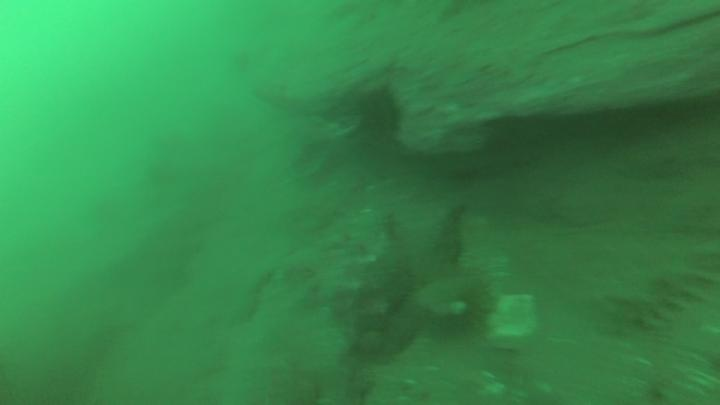echinus: (360, 84, 403, 147)
holothurian: (595, 241, 720, 337)
